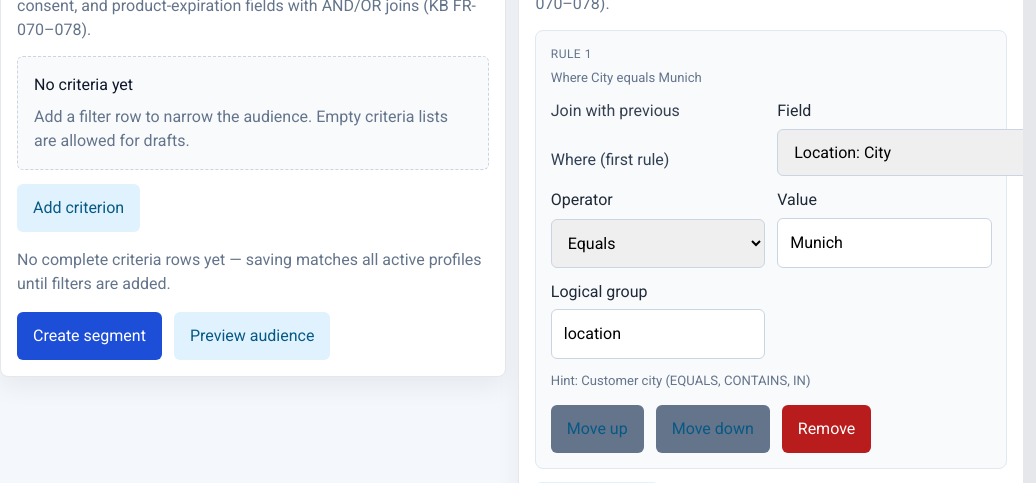
SegmentsPage › validates the create segment form before posting
The width and height of the screenshot is (1036, 483).
(page scrolled)
Click the button "Add criterion" below "No criteria yet": (79,208) [17, 184, 140, 232]
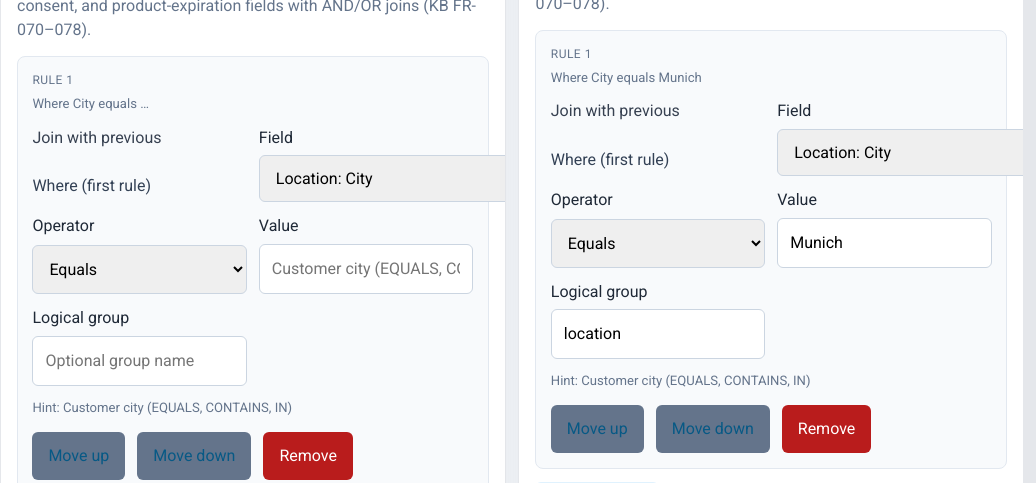
Select "Location: City" in the dropdown named "Field for rule 1": (433,179) [259, 155, 608, 202]
(page scrolled)
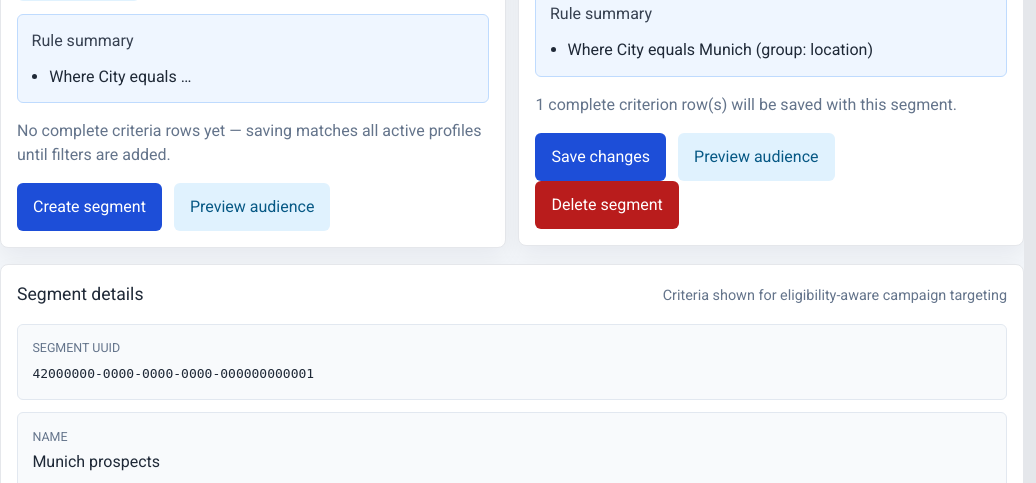
Click the button "Create segment": (89,207) [17, 183, 162, 231]
(page scrolled)
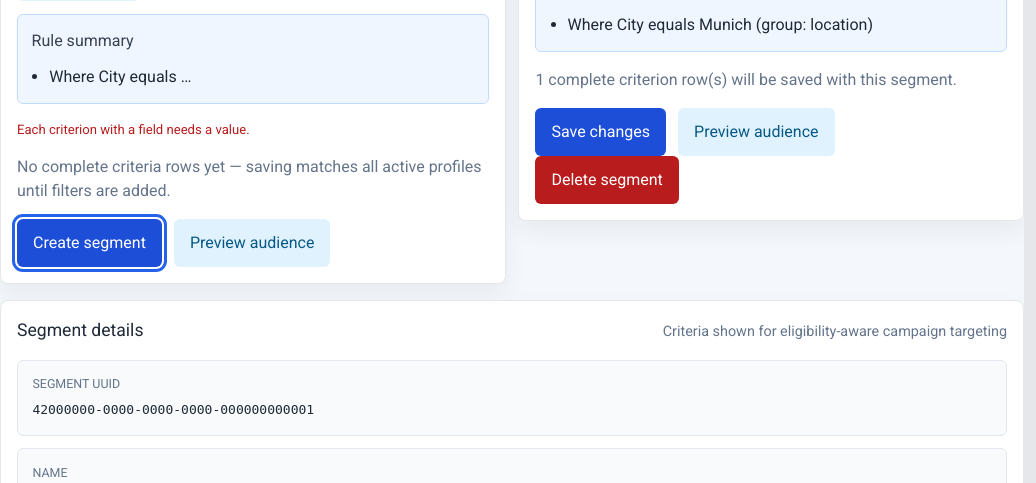
Expected: the text "Each criterion with a field needs a value." is shown, [17, 122, 250, 137]
